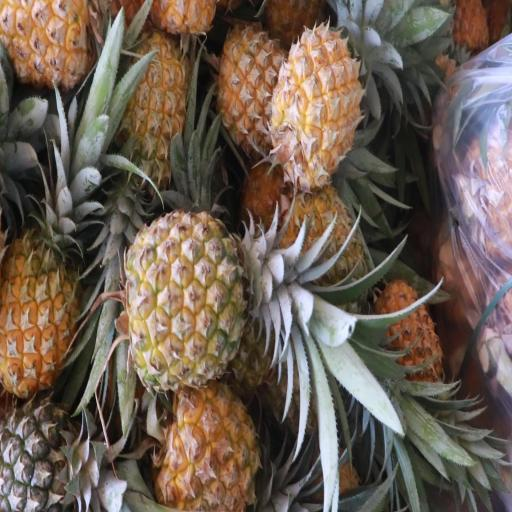------------------------------: (118, 207, 314, 384)
Pineapple - v8 v1: (145, 383, 308, 512), (0, 136, 74, 395), (261, 25, 374, 180), (106, 30, 185, 189), (212, 20, 278, 137)
